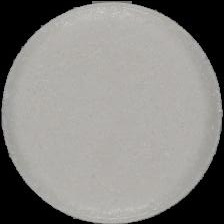0378-0208: (0, 0, 224, 224)
